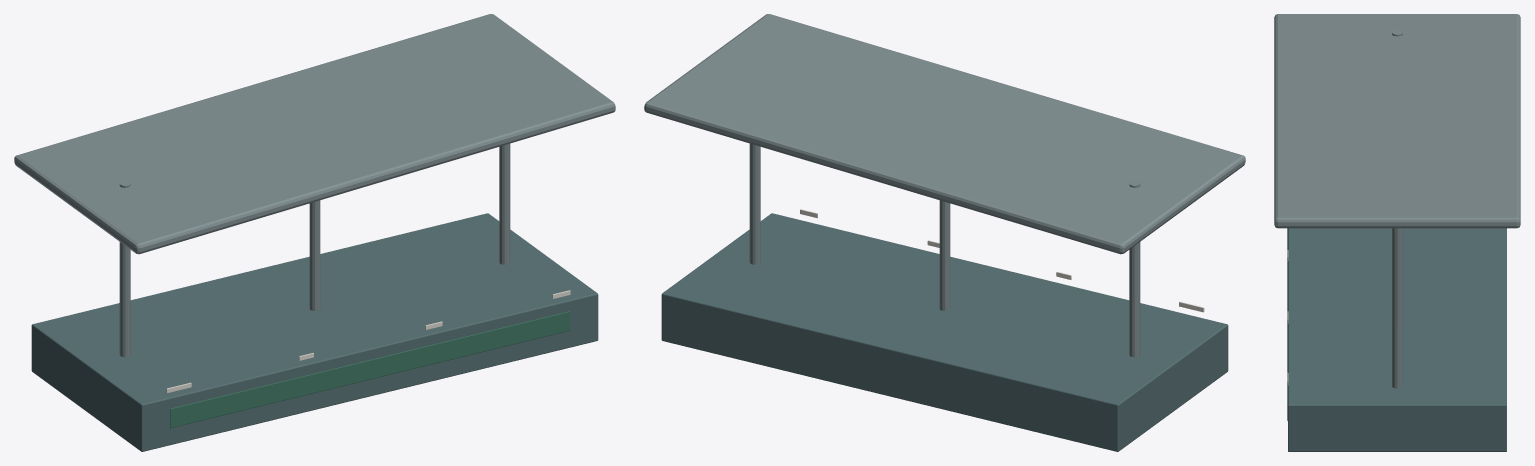
Rendered from SM_FC01_Station_Canopy_A.fbx.
The picture shows the model from 3 angles, left to right: view 1: azimuth 30°, elevation 25°; view 2: azimuth 150°, elevation 25°; view 3: azimuth 270°, elevation 25°; orthographic projection.
Visible parts, largest first — view 1: SM_FC01_Station_Canopy_A_WetBand, SM_FC01_Station_Canopy_A_Roof, SM_FC01_Station_Canopy_A_AlgaeBand, SM_FC01_Station_Canopy_A_Post_3.0, SM_FC01_Station_Canopy_A_Post_-3.0, SM_FC01_Station_Canopy_A_Post_0; view 2: SM_FC01_Station_Canopy_A_WetBand, SM_FC01_Station_Canopy_A_Roof, SM_FC01_Station_Canopy_A_Post_3.0, SM_FC01_Station_Canopy_A_Post_-3.0, SM_FC01_Station_Canopy_A_Post_0; view 3: SM_FC01_Station_Canopy_A_Roof, SM_FC01_Station_Canopy_A_WetBand, SM_FC01_Station_Canopy_A_Post_3.0.
Boxes of the visible parts, <box> form: SM_FC01_Station_Canopy_A_WetBand: <box>31,213,598,451</box>; SM_FC01_Station_Canopy_A_Roof: <box>14,14,615,254</box>; SM_FC01_Station_Canopy_A_AlgaeBand: <box>170,311,570,428</box>; SM_FC01_Station_Canopy_A_Post_3.0: <box>499,143,510,264</box>; SM_FC01_Station_Canopy_A_Post_-3.0: <box>119,181,130,357</box>; SM_FC01_Station_Canopy_A_Post_0: <box>309,200,320,310</box>; SM_FC01_Station_Canopy_A_WetBand: <box>661,213,1228,451</box>; SM_FC01_Station_Canopy_A_Roof: <box>644,14,1245,254</box>; SM_FC01_Station_Canopy_A_Post_3.0: <box>749,143,760,264</box>; SM_FC01_Station_Canopy_A_Post_-3.0: <box>1129,181,1140,357</box>; SM_FC01_Station_Canopy_A_Post_0: <box>939,200,950,310</box>; SM_FC01_Station_Canopy_A_Roof: <box>1274,14,1520,228</box>; SM_FC01_Station_Canopy_A_WetBand: <box>1288,228,1506,451</box>; SM_FC01_Station_Canopy_A_Post_3.0: <box>1392,228,1402,388</box>.
Size of the model in its own units: 7.59 by 3.64 by 3.4.
